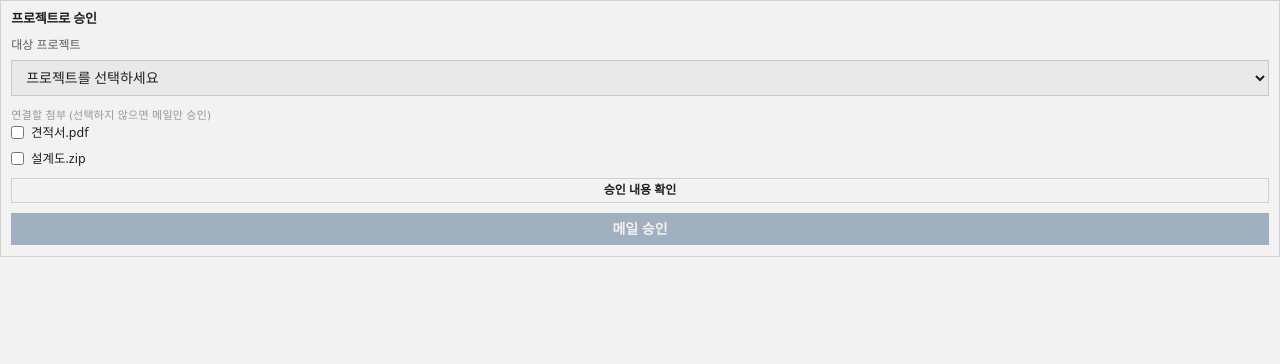
Scenario: MailApprovalForm › 첨부 없이도 메일만 승인이 유효한 선택이다
Select "다온 스마트팩토리" in the dropdown labelled "대상 프로젝트" at (640, 78), box [11,60,1269,96]
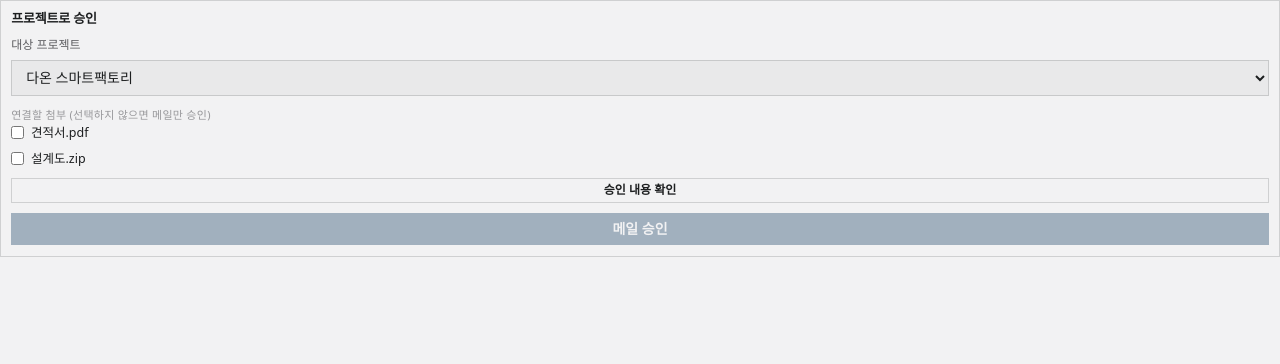
Click the button "승인 내용 확인" at (640, 191), box [11,178,1269,203]
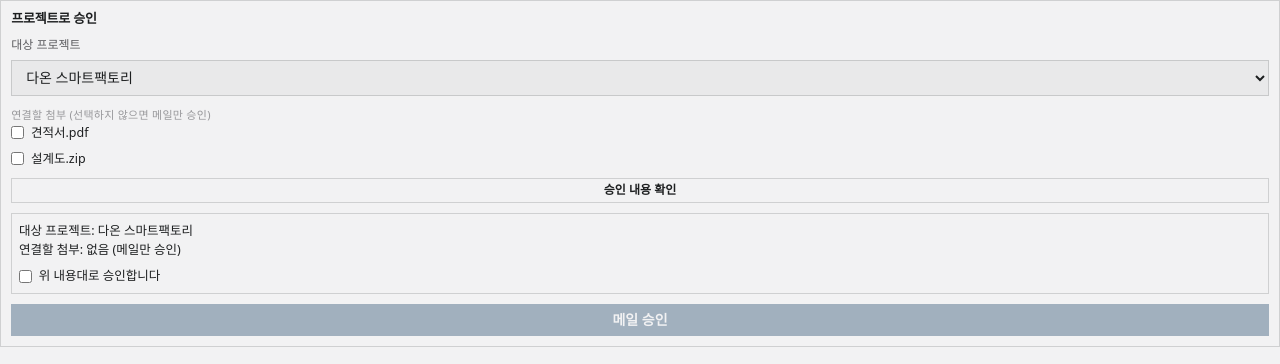
expect the text "연결할 첨부: 없음 (메일만 승인)" is shown: met, box [19,241,181,258]
Click the checkbox labelled "위 내용대로 승인합니다" at (26, 276), box [19,270,32,283]
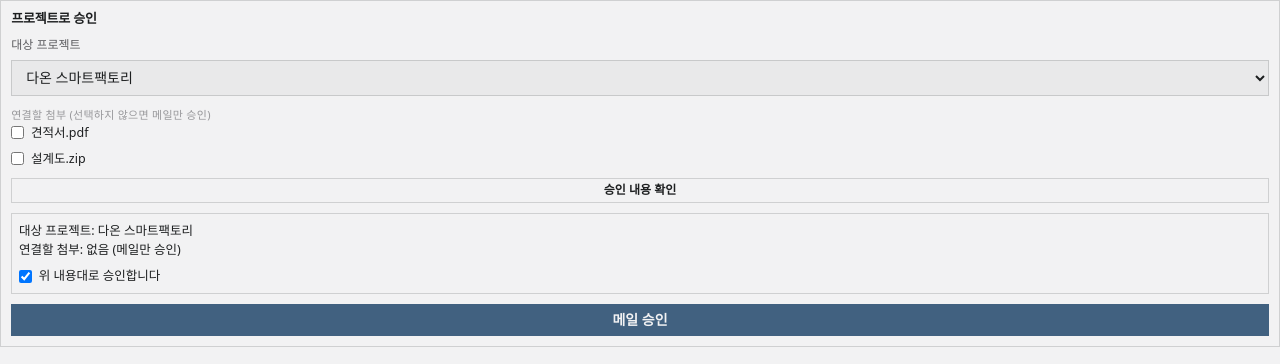
expect the button "메일 승인" is enabled: met, box [11,304,1269,336]
